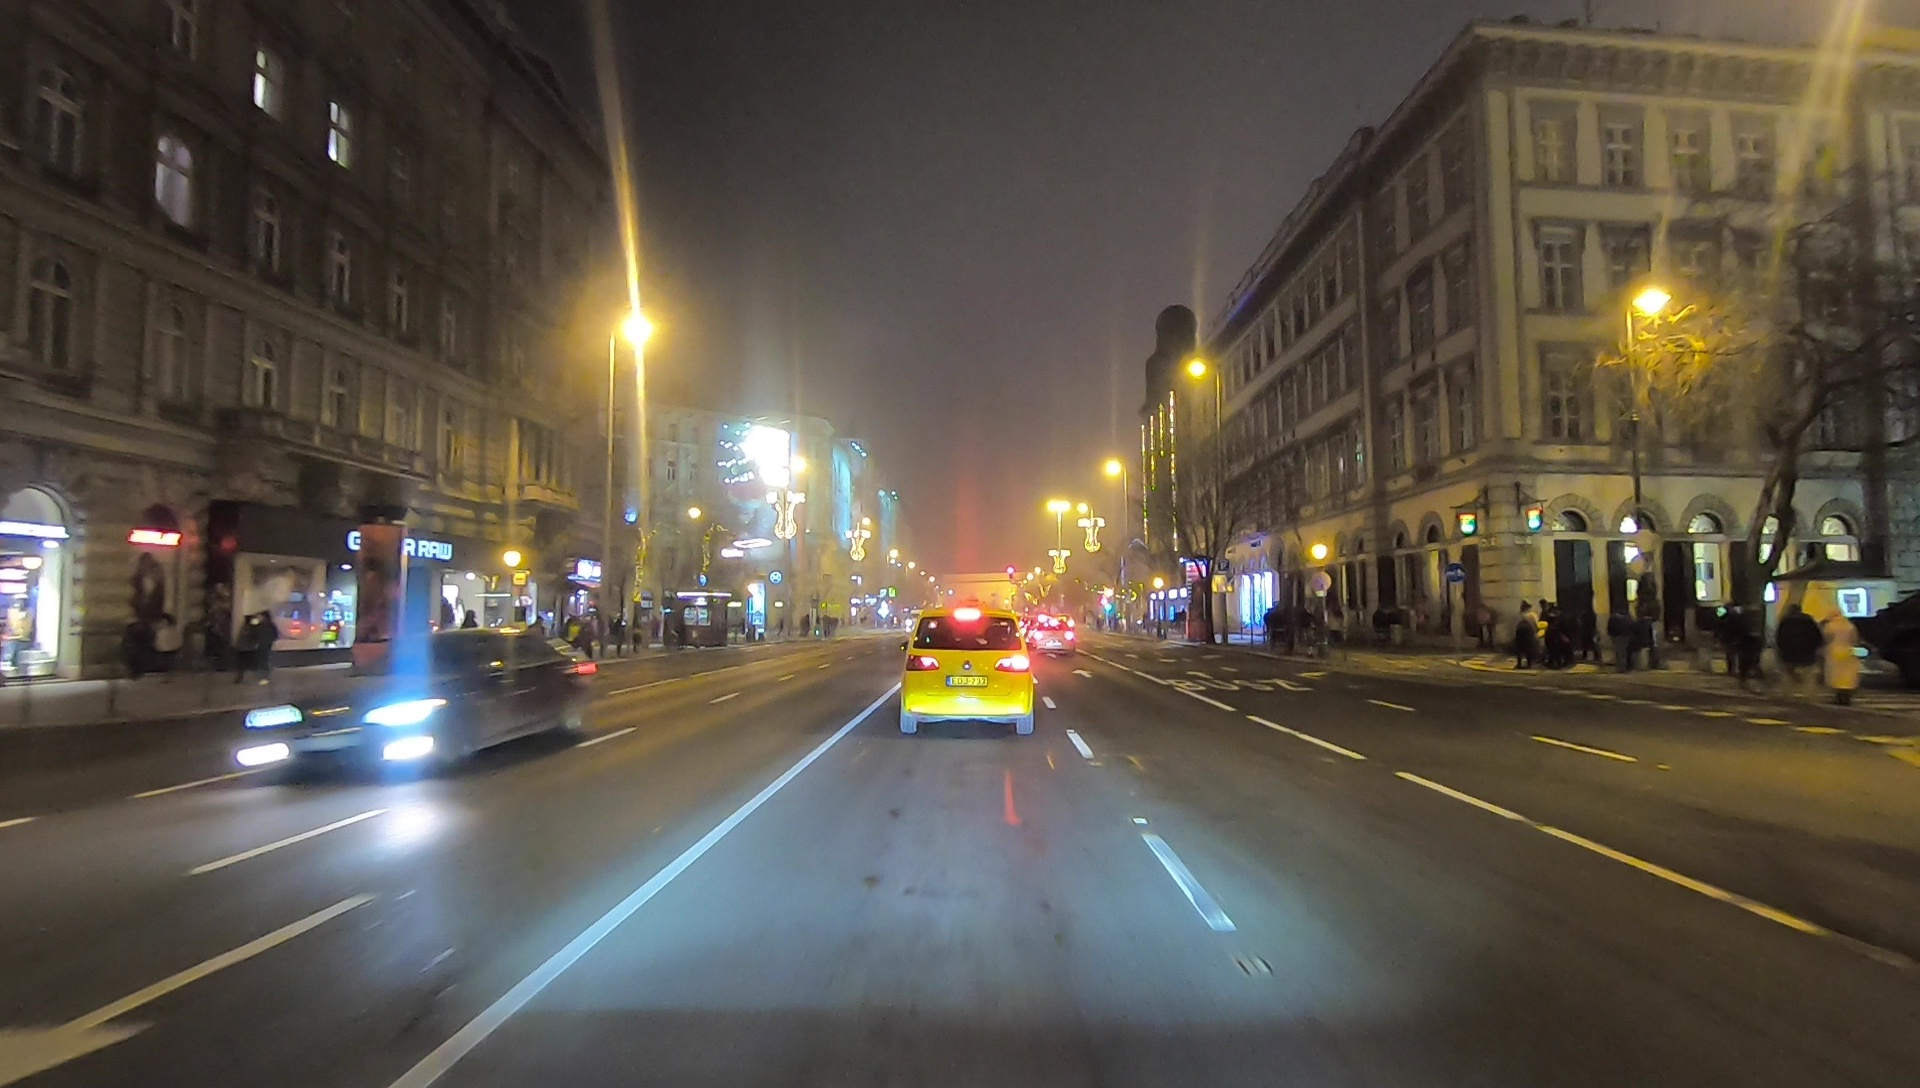person: (1778, 600, 1821, 695), (1825, 610, 1858, 695), (253, 610, 286, 688), (234, 611, 258, 691), (1738, 600, 1764, 673), (123, 599, 147, 676), (1614, 600, 1638, 676), (1541, 599, 1565, 669), (1715, 600, 1738, 667), (154, 610, 178, 673), (1514, 602, 1538, 660), (1476, 599, 1495, 650), (1262, 600, 1282, 650), (582, 606, 597, 665), (1289, 604, 1304, 656), (614, 615, 626, 656)
